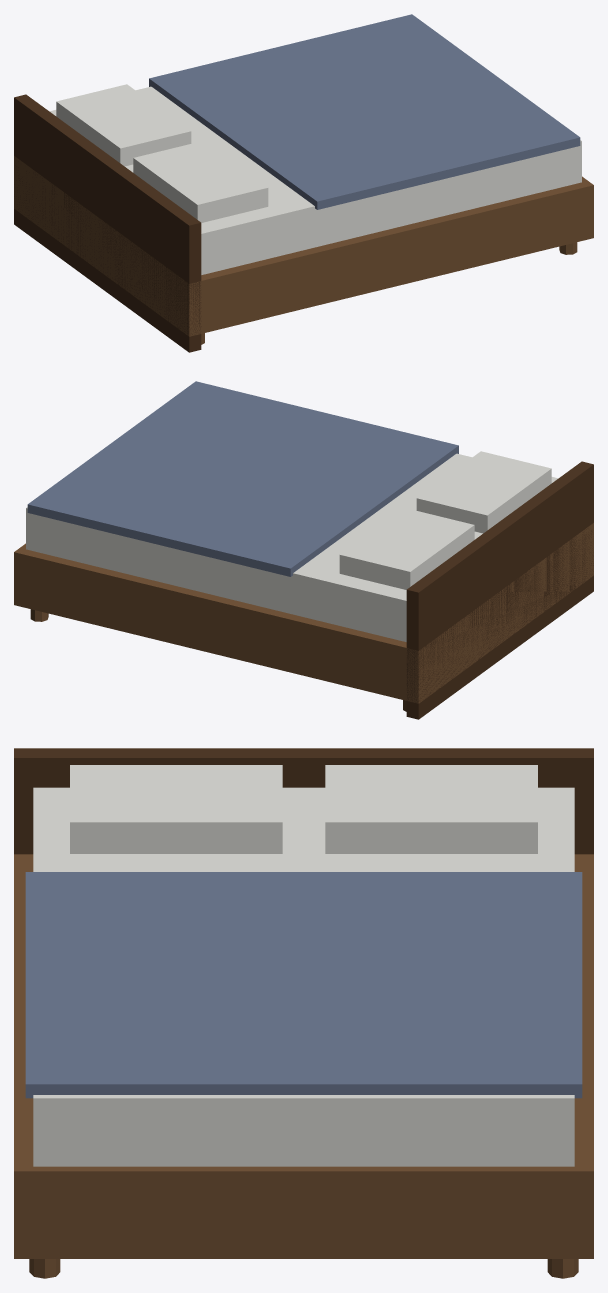
The model's file is bed.glb.
3 renders of one model, top to bottom at view 1: azimuth 30°, elevation 25°; view 2: azimuth 150°, elevation 25°; view 3: azimuth 270°, elevation 25°, orthographic. The views are drawn at different scales.
Visible parts, largest first — view 1: bed; view 2: bed; view 3: bed.
Part boxes in pixels (left/top/right/bottom): bed: left=14, top=14, right=593, bottom=352; bed: left=14, top=381, right=593, bottom=719; bed: left=14, top=748, right=593, bottom=1278.
Bounding box in the file's own units: 2 × 0.61 × 1.5.
